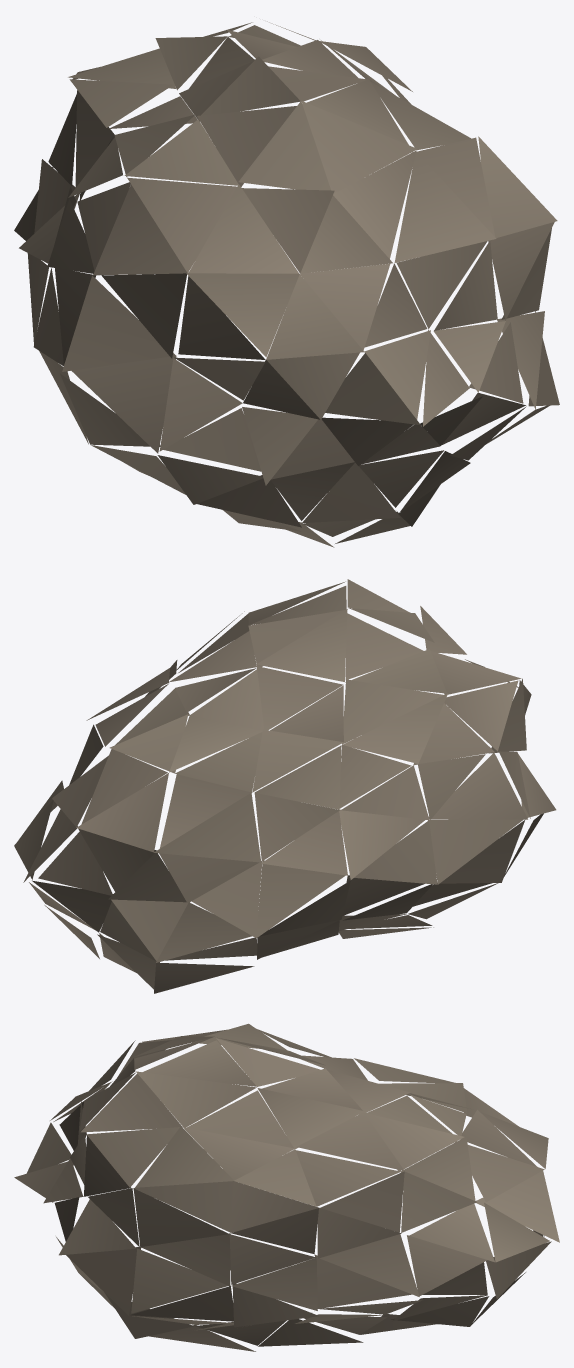
The model's file is mature-lod2.glb.
3 renders of one model, top to bottom at view 1: azimuth 30°, elevation 25°; view 2: azimuth 150°, elevation 25°; view 3: azimuth 270°, elevation 25°, orthographic. The views are drawn at different scales.
Parts seen in each view (by area): view 1: coherent-weathered-fieldstone; view 2: coherent-weathered-fieldstone; view 3: coherent-weathered-fieldstone.
Part boxes in pixels (bbox=[...]): coherent-weathered-fieldstone: bbox=[14, 21, 559, 547]; coherent-weathered-fieldstone: bbox=[14, 579, 556, 993]; coherent-weathered-fieldstone: bbox=[14, 1023, 559, 1351].
Bounding box in the file's own units: 3.26 × 2.63 × 4.52.
